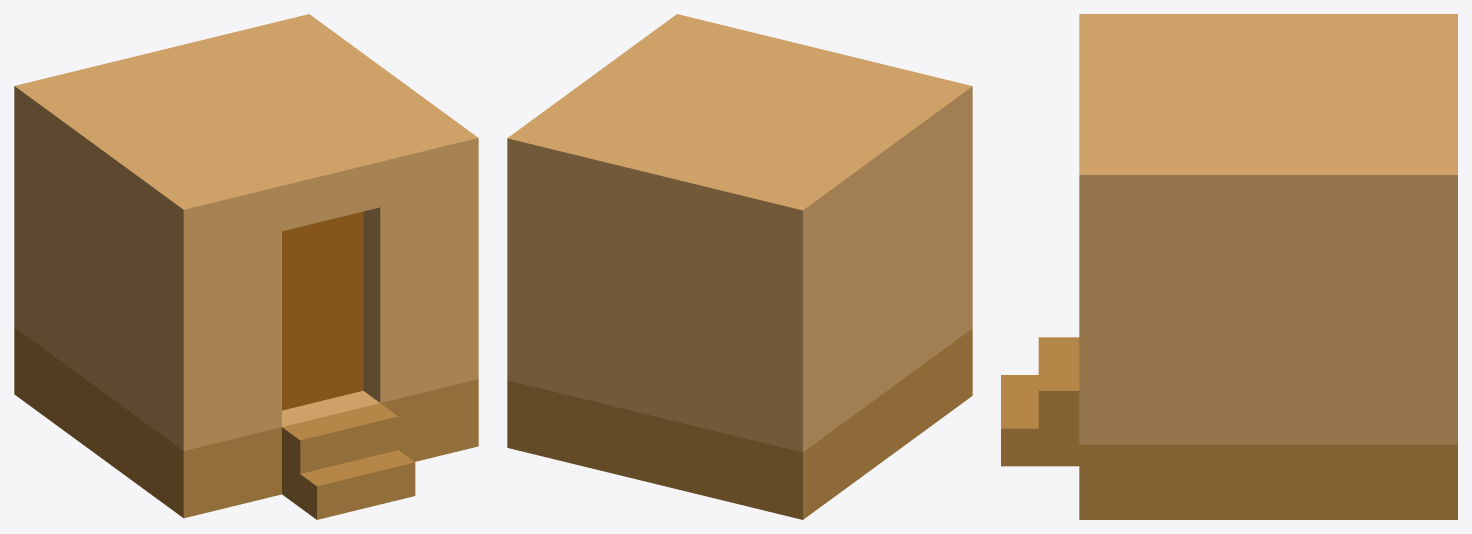
3 views of the same model, side by side, from view 1: azimuth 30°, elevation 25°; view 2: azimuth 150°, elevation 25°; view 3: azimuth 270°, elevation 25° (orthographic). The views are drawn at different scales.
Parts seen in each view (by area): view 1: base1; view 2: base1; view 3: base1.
Boxes of the visible parts, bbox=[...] form: base1: bbox=[14, 14, 478, 519]; base1: bbox=[507, 14, 972, 519]; base1: bbox=[1001, 14, 1457, 519].
Bounding box in the file's own units: 200 × 200 × 240.
